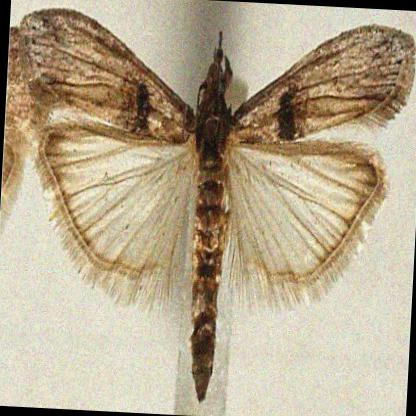Leaf Webber: (21, 2, 416, 404)
